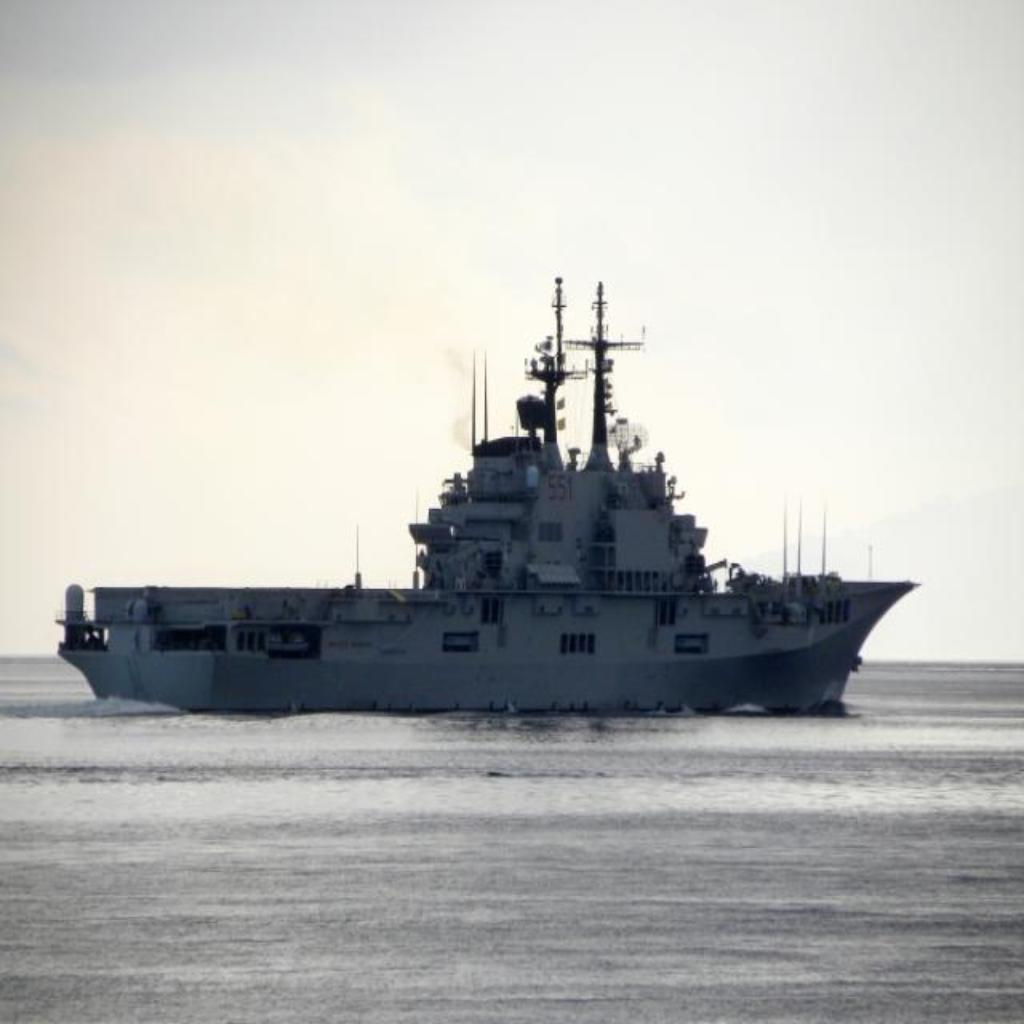Warship: (51, 256, 921, 720)
